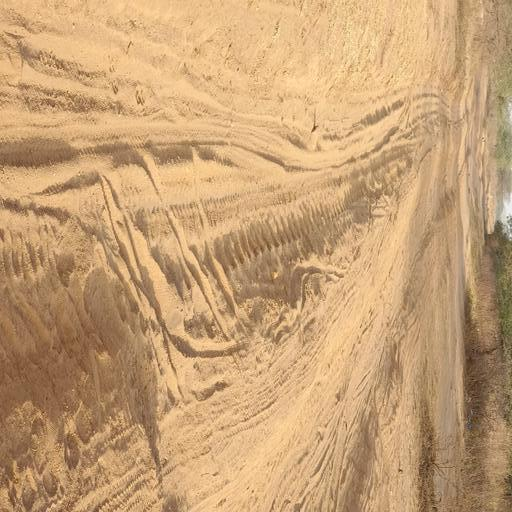vehicle_track: (75, 150, 457, 512), (0, 23, 458, 302)
